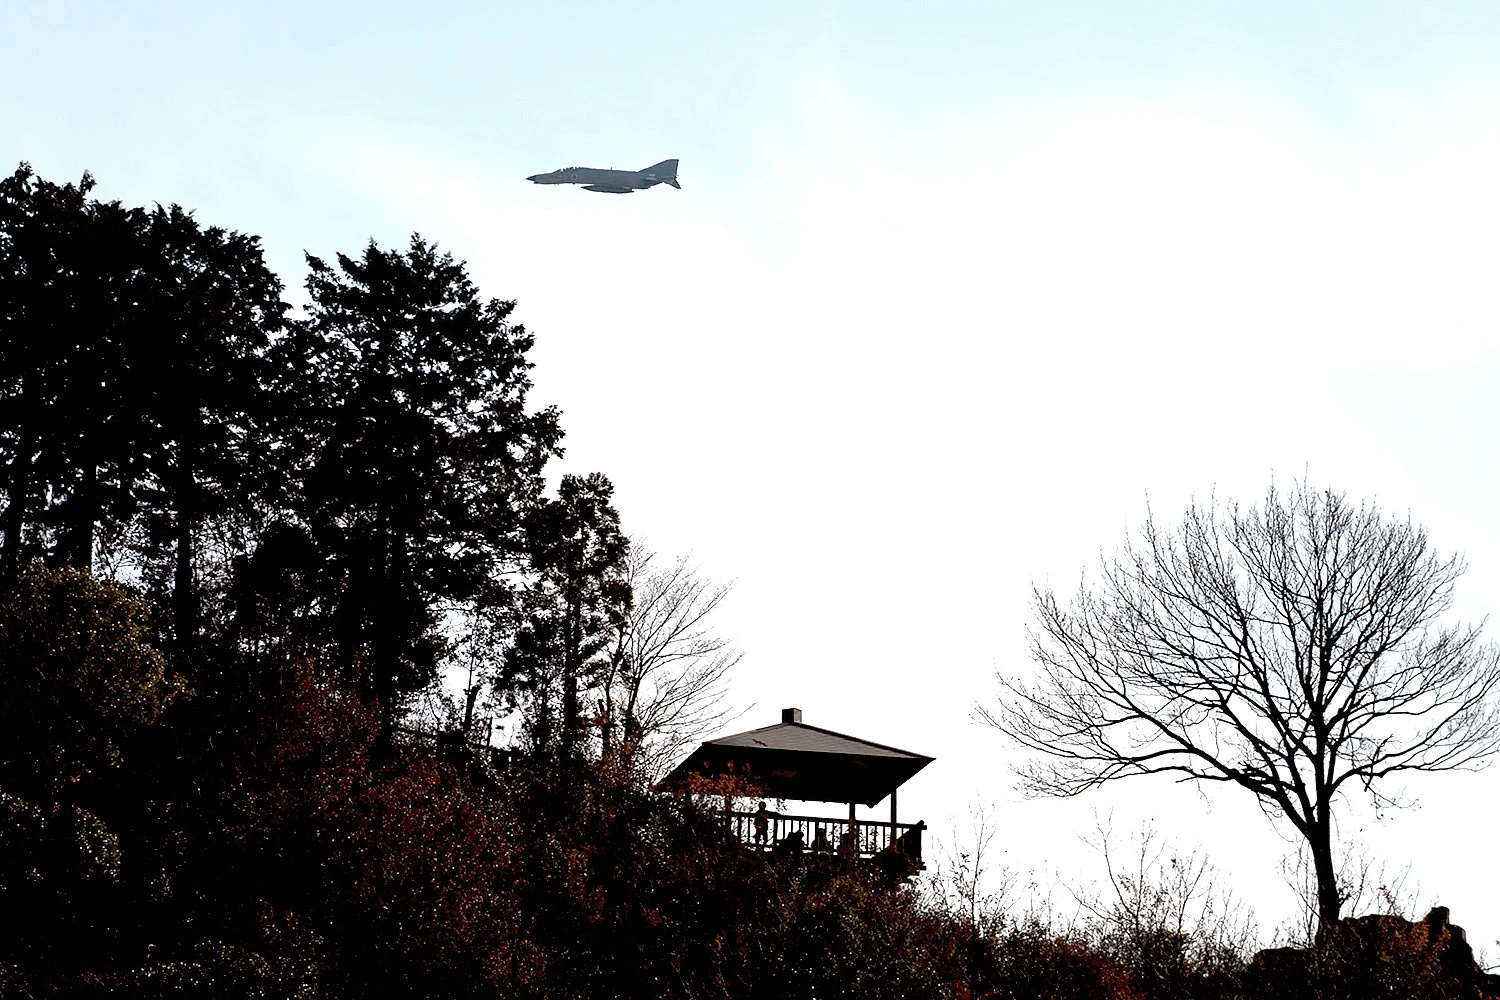F4: (519, 158, 682, 194)
